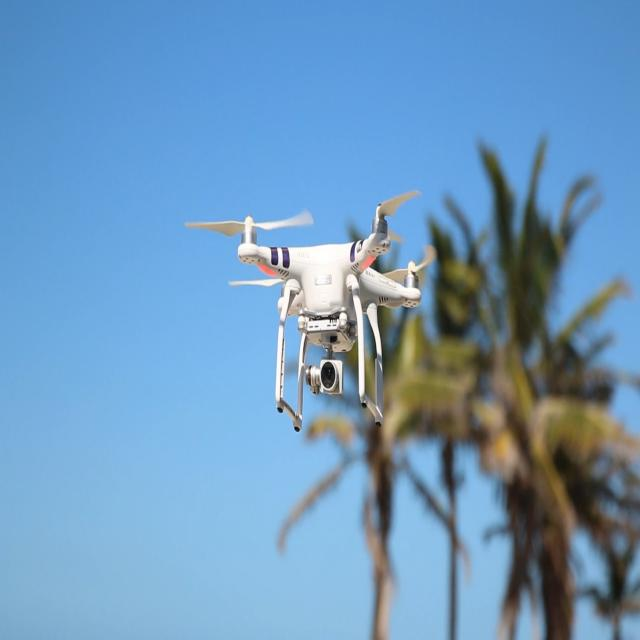Drone: (179, 176, 442, 445)
